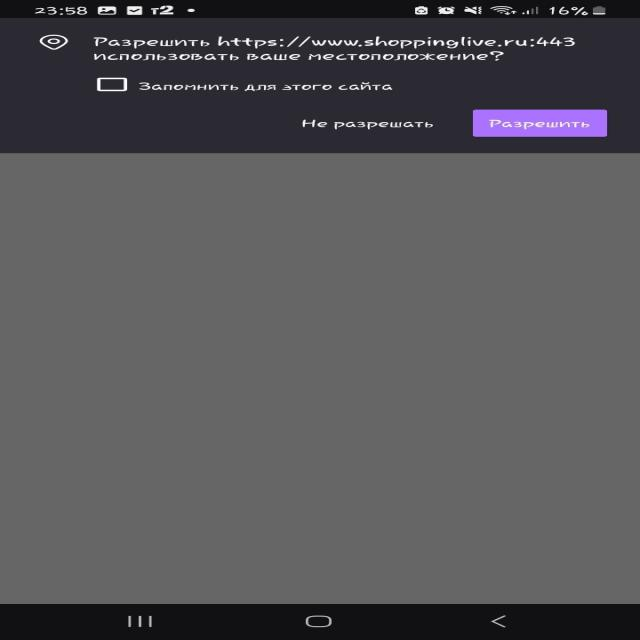button: (471, 109, 611, 140), (284, 111, 444, 138)
system: (0, 17, 640, 152)
